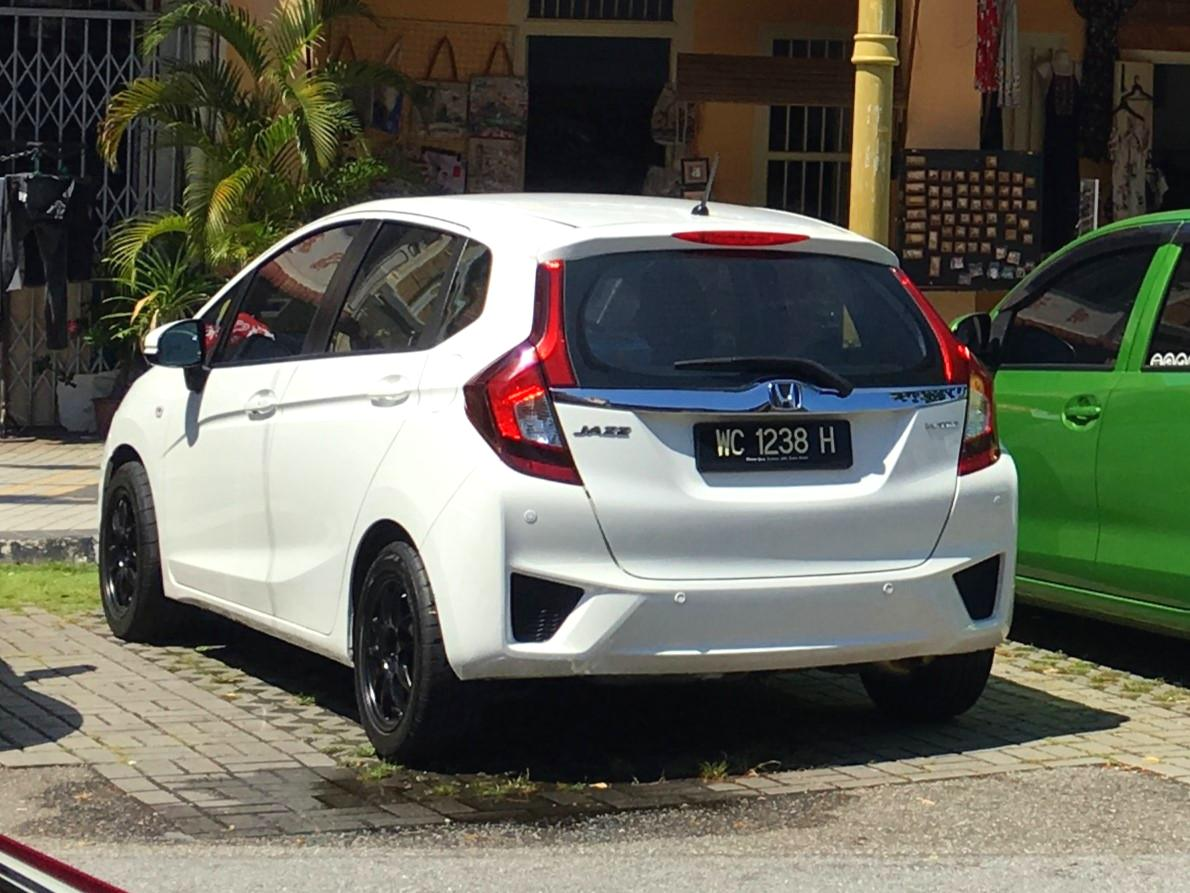License Plate: (695, 420, 853, 472)
